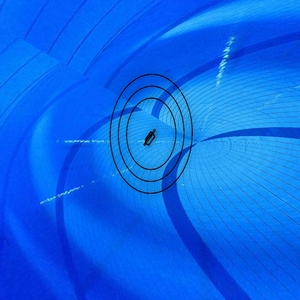circle: (107, 69, 199, 197)
submarine: (141, 127, 162, 151)
